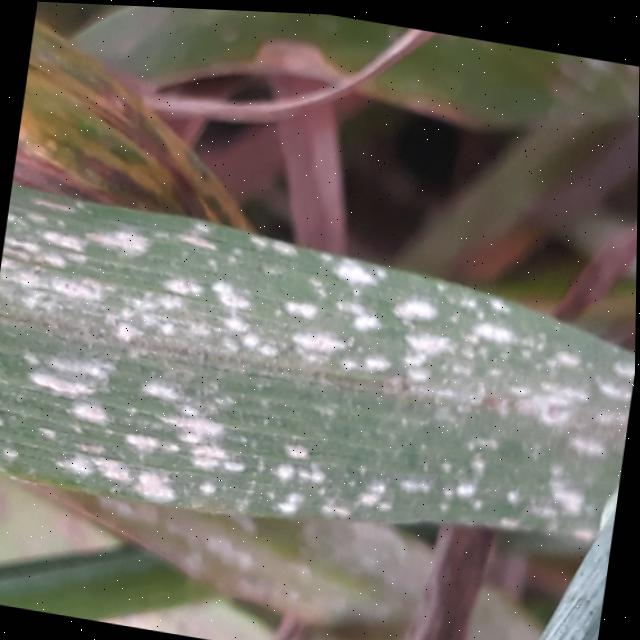powder_mildew: (0, 174, 638, 594), (103, 503, 449, 640), (65, 2, 390, 104), (411, 24, 640, 143)
